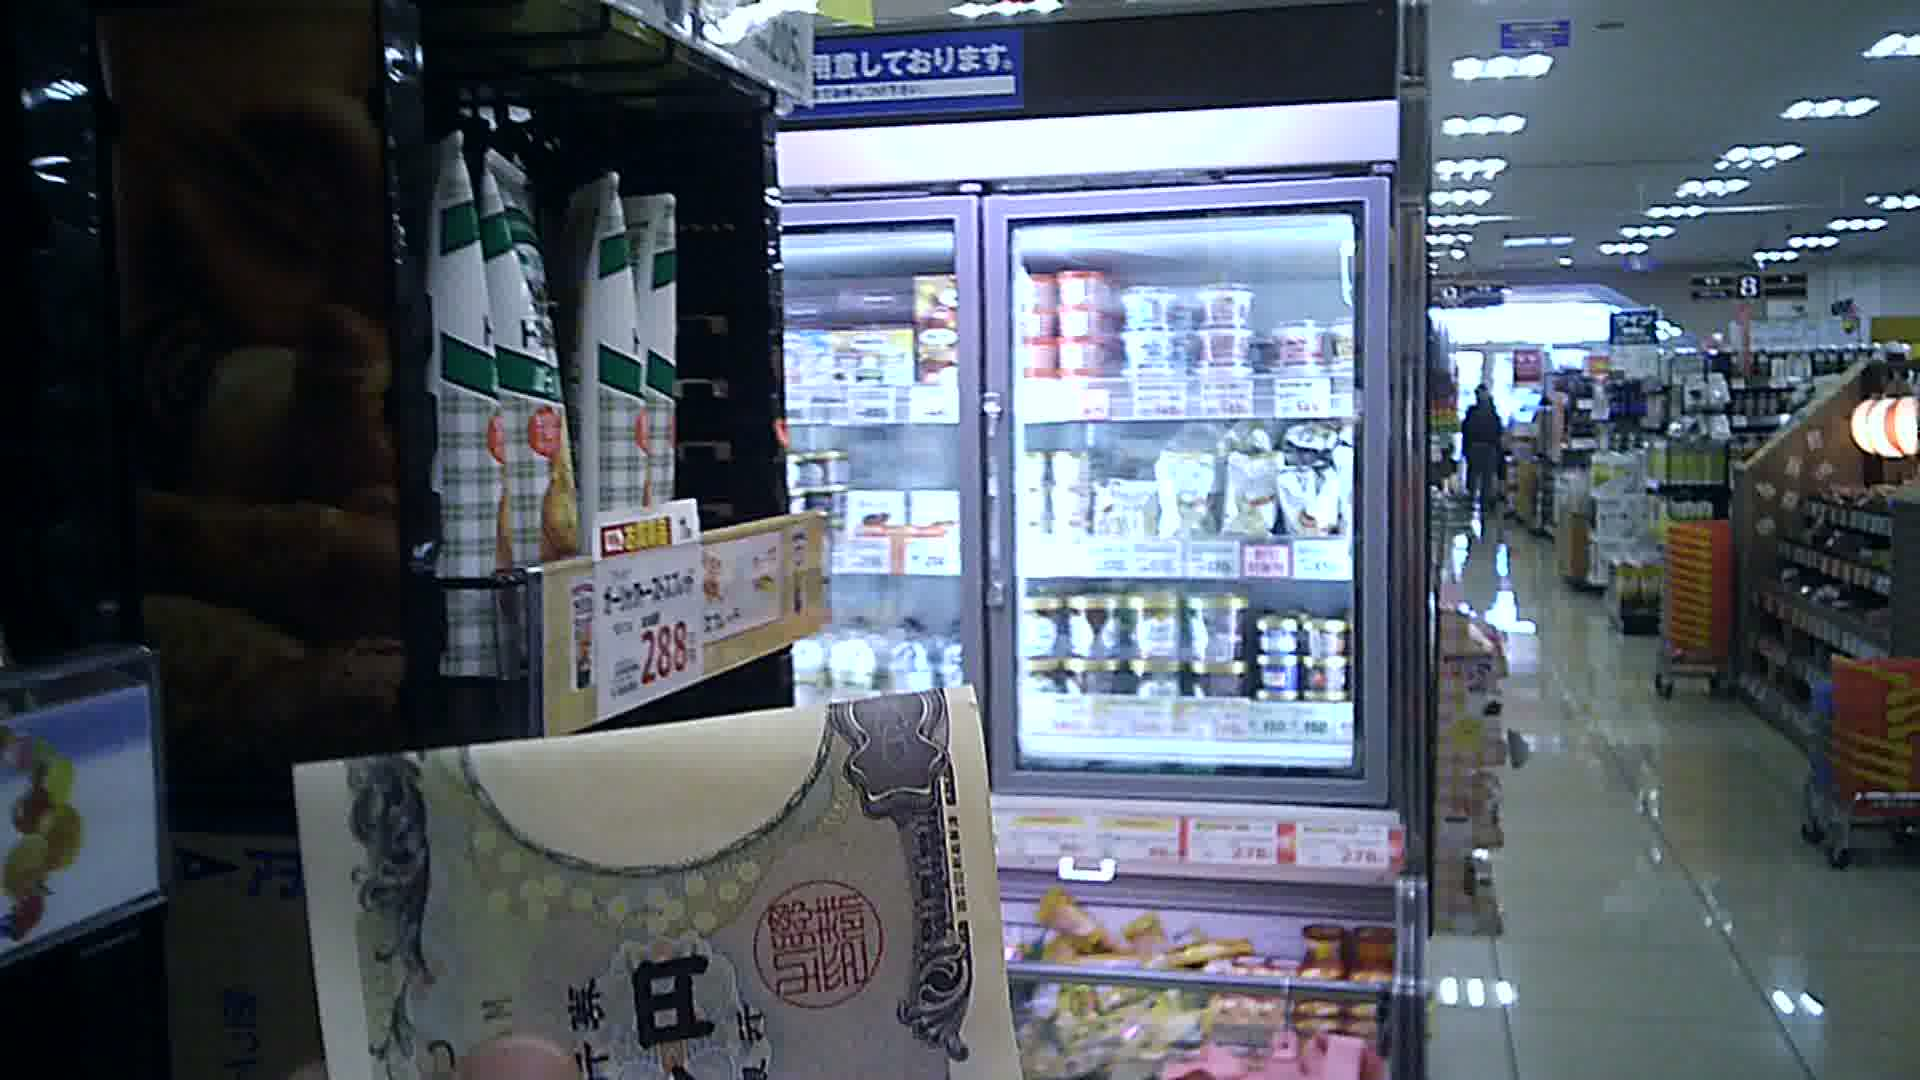5,000 Yen: (280, 687, 1007, 1079)
